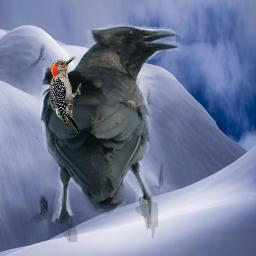Crow: (40, 19, 180, 242)
Woodpecker: (47, 55, 81, 138)
